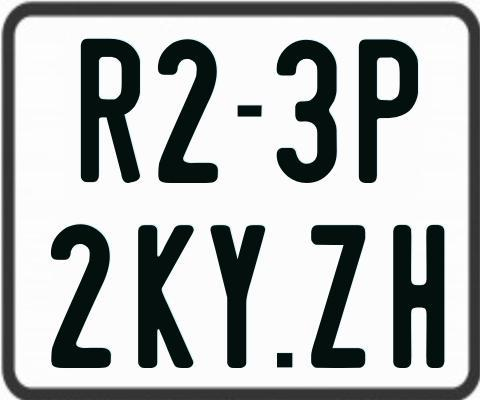2: (158, 38, 223, 183), (51, 223, 116, 367)
3: (274, 40, 338, 187)
H: (392, 225, 445, 372)
K: (137, 224, 193, 373)
P: (357, 37, 416, 181)
R: (80, 36, 140, 184)
Y: (208, 225, 263, 374)
Z: (308, 222, 367, 365)
